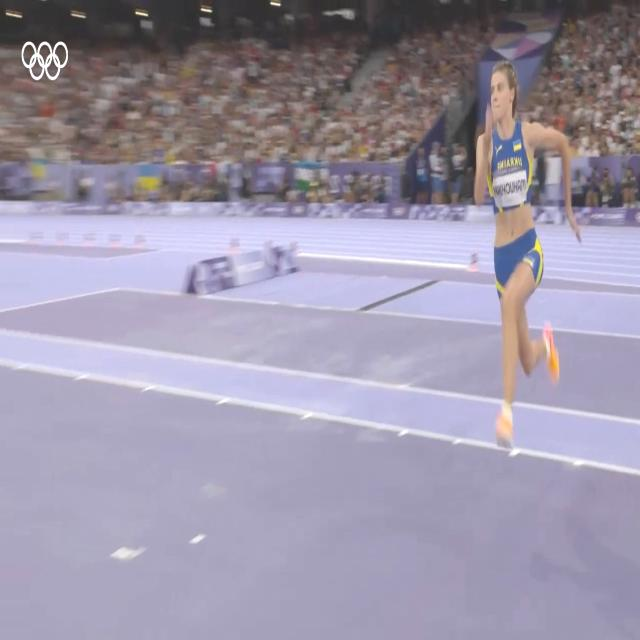run: (470, 62, 574, 462)
